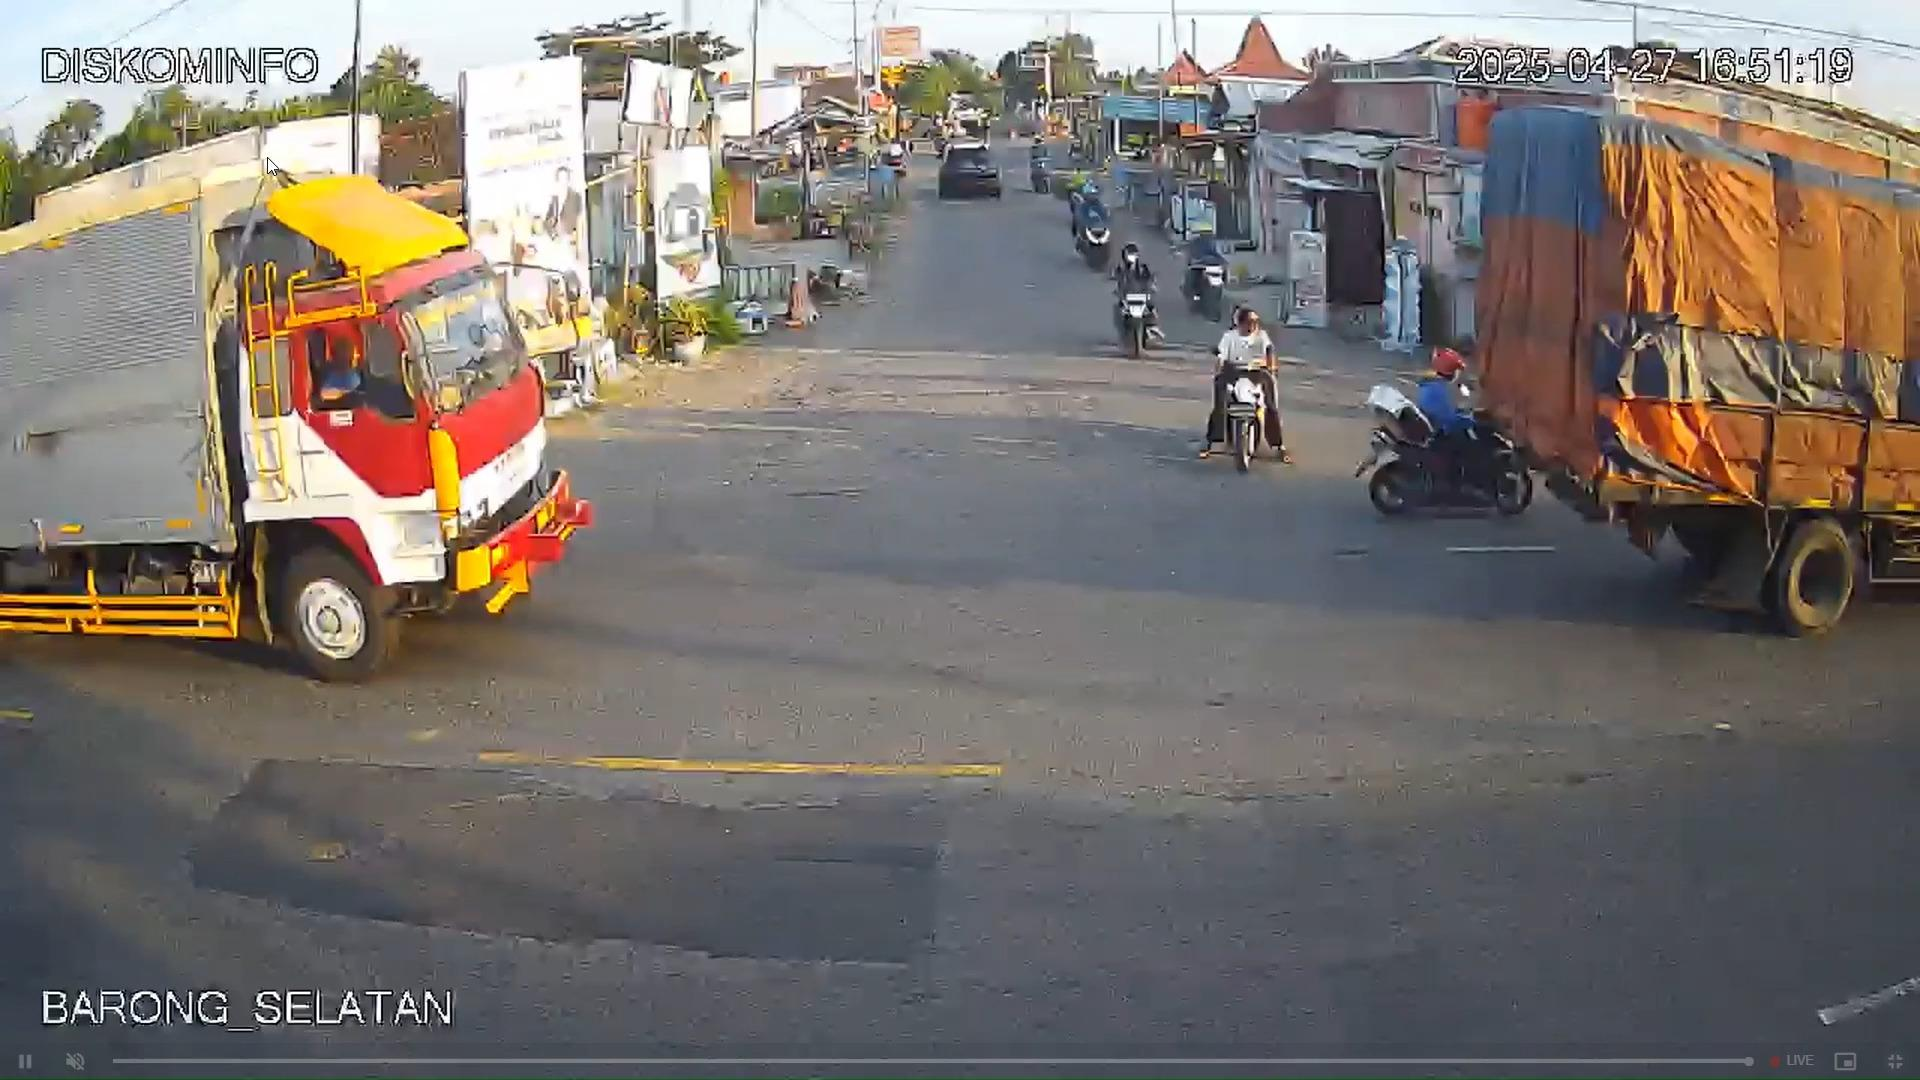Motor: (1357, 378, 1534, 520), (1200, 307, 1291, 463), (1116, 278, 1164, 357)
Truck: (0, 123, 601, 680), (1474, 61, 1920, 618)
